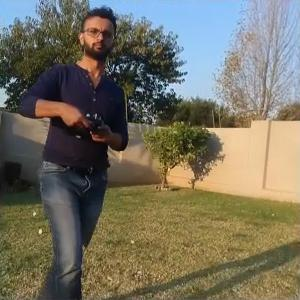follow: (12, 2, 130, 298)
